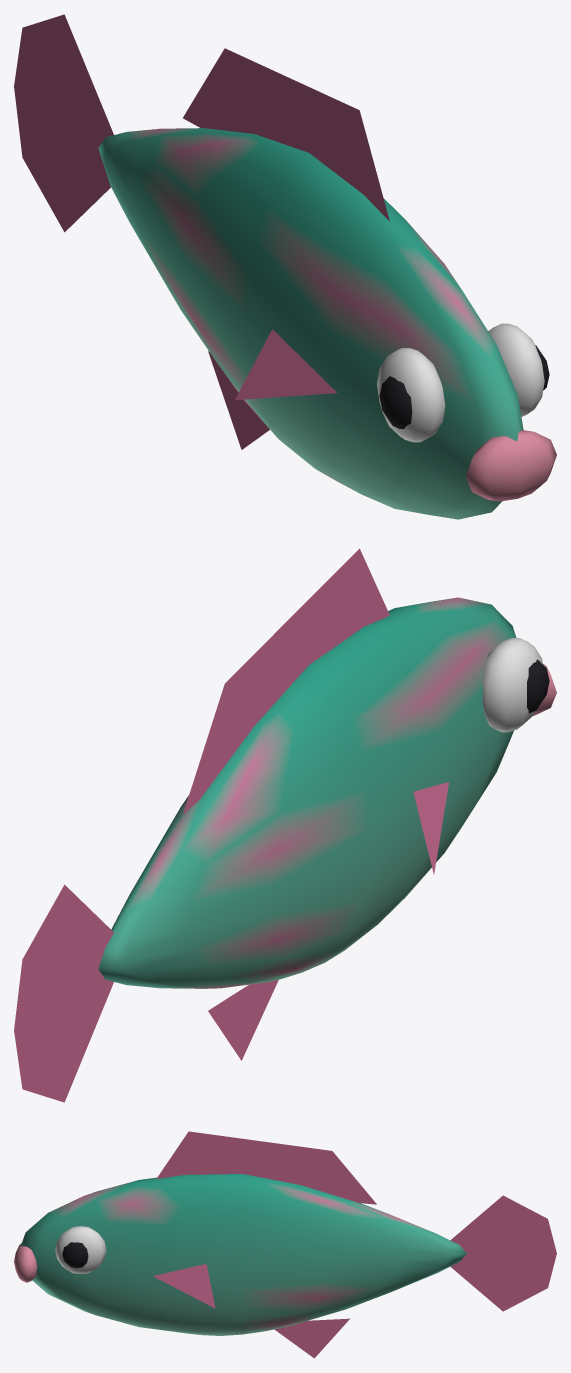
File: papageifisch.glb
3 renders of one model, top to bottom at view 1: azimuth 30°, elevation 25°; view 2: azimuth 150°, elevation 25°; view 3: azimuth 270°, elevation 25°, orthographic. The views are drawn at different scales.
Parts seen in each view (by area): view 1: papageifisch; view 2: papageifisch; view 3: papageifisch.
Boxes of the visible parts, x1=… form: papageifisch: x1=14, y1=14, x2=556, y2=519; papageifisch: x1=14, y1=548, x2=556, y2=1102; papageifisch: x1=14, y1=1131, x2=556, y2=1358.
Size of the model in its own units: 0.273 by 0.558 by 1.21.
